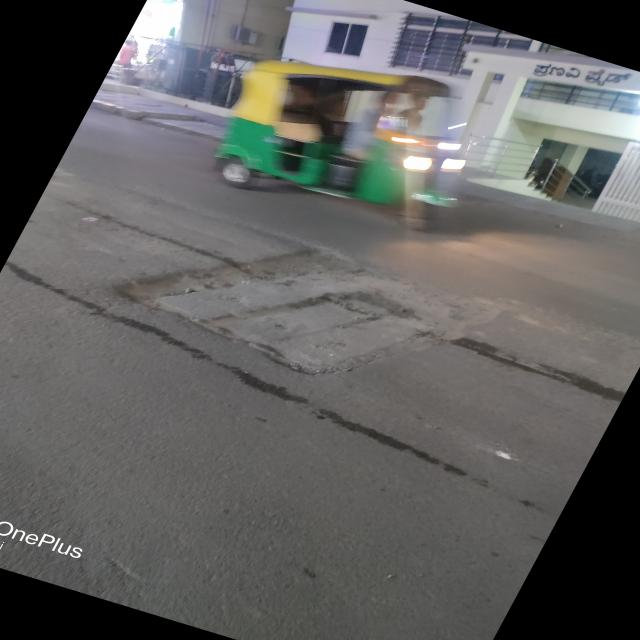potholes: (104, 214, 519, 381)
